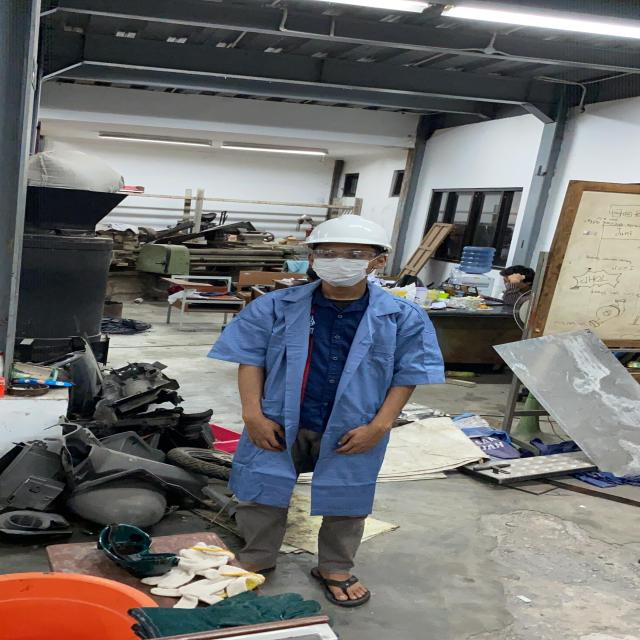face_mask: (307, 246, 378, 286)
glasses: (303, 246, 386, 262)
hand_glove: (236, 414, 292, 455), (331, 422, 384, 458)
head_helmet: (301, 212, 394, 249)
person: (205, 213, 432, 609)
